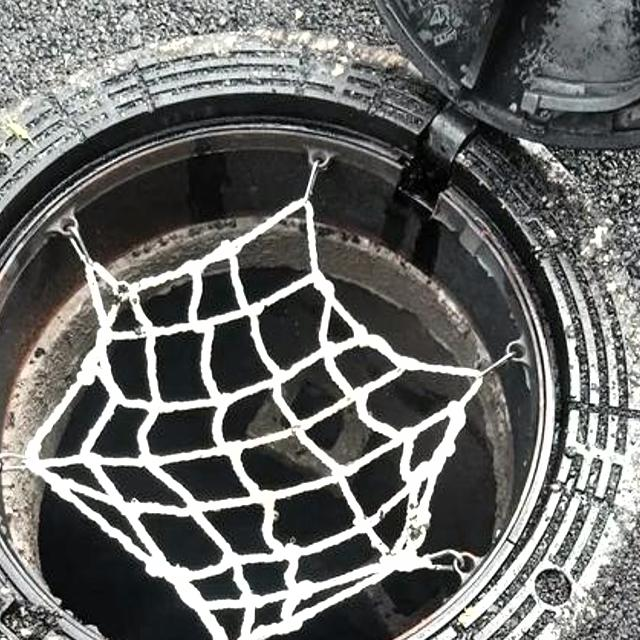lose: (0, 34, 640, 640)
